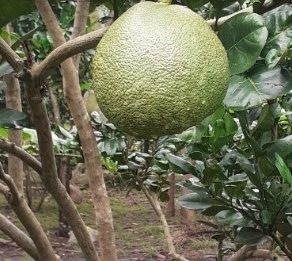Buoi: (83, 1, 227, 148)
